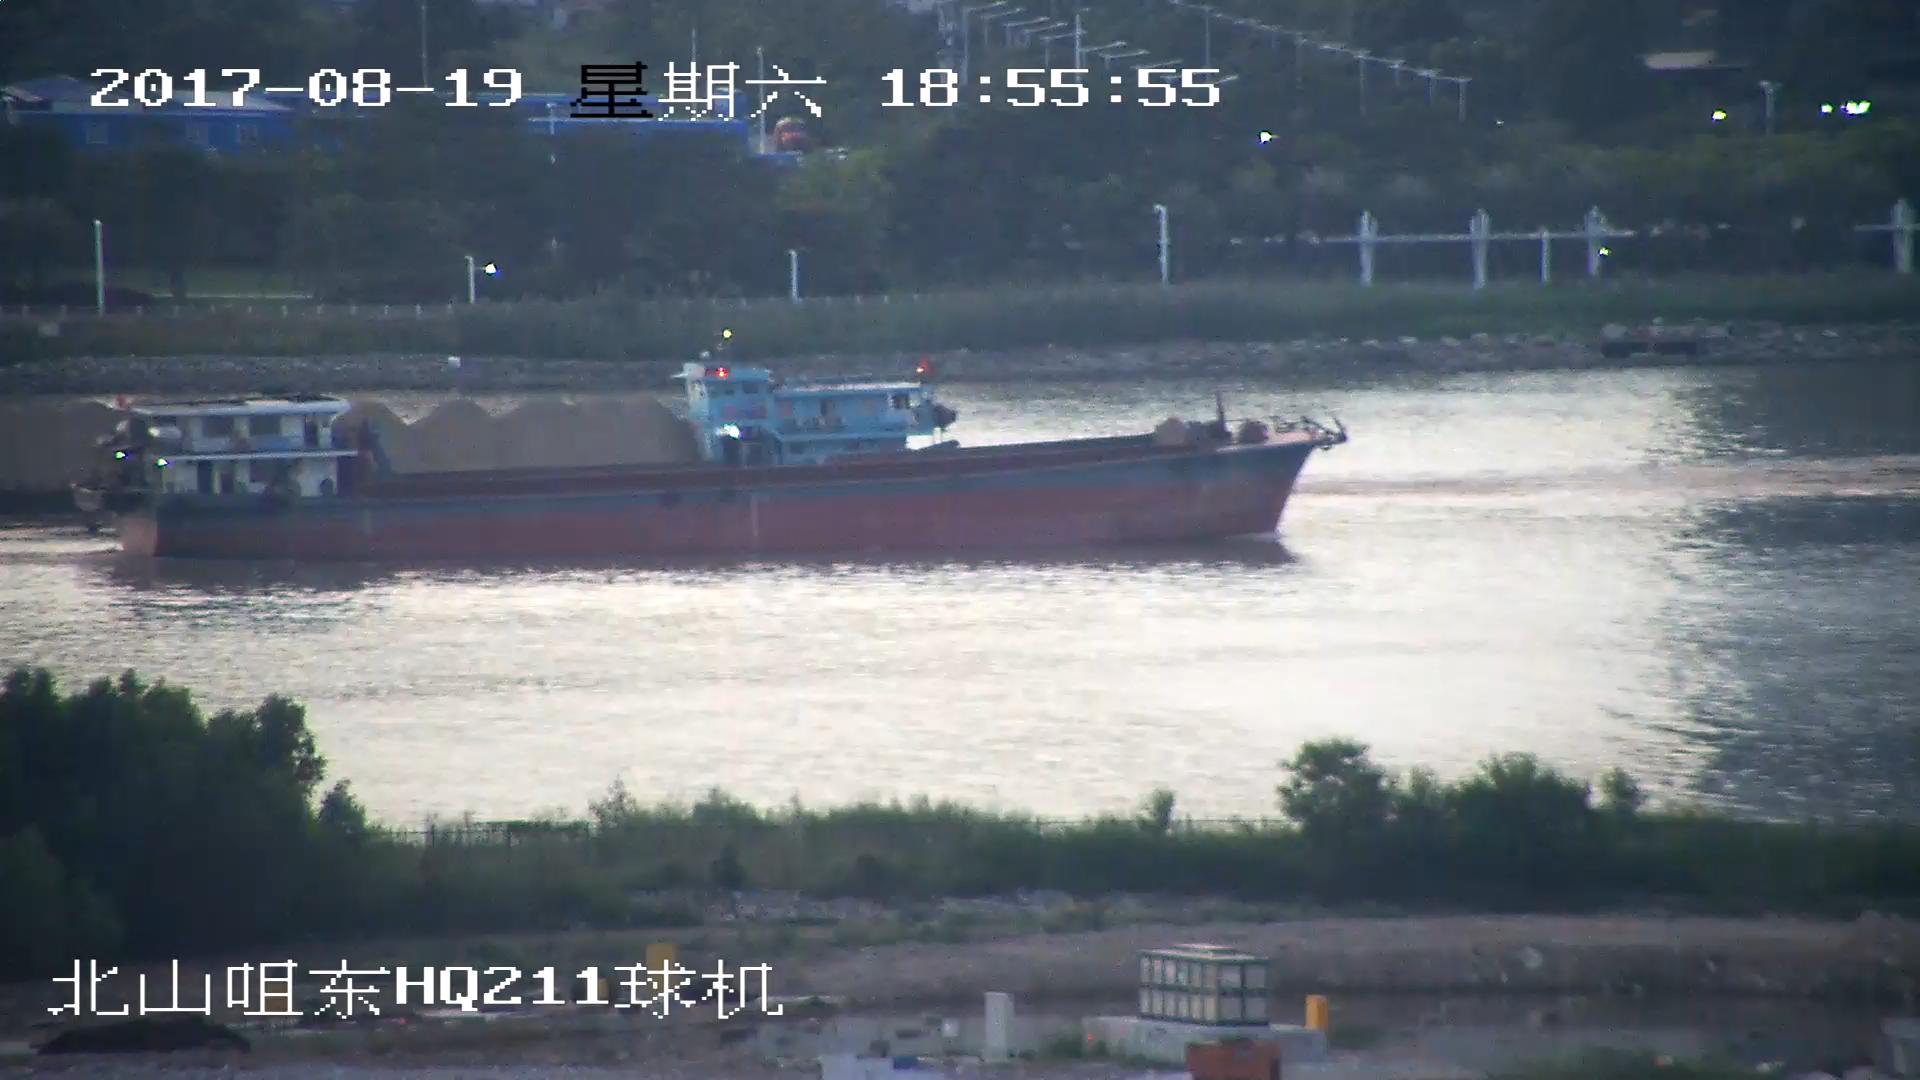bulk cargo carrier: (76, 403, 1347, 564)
ore carrier: (1, 359, 966, 515)
